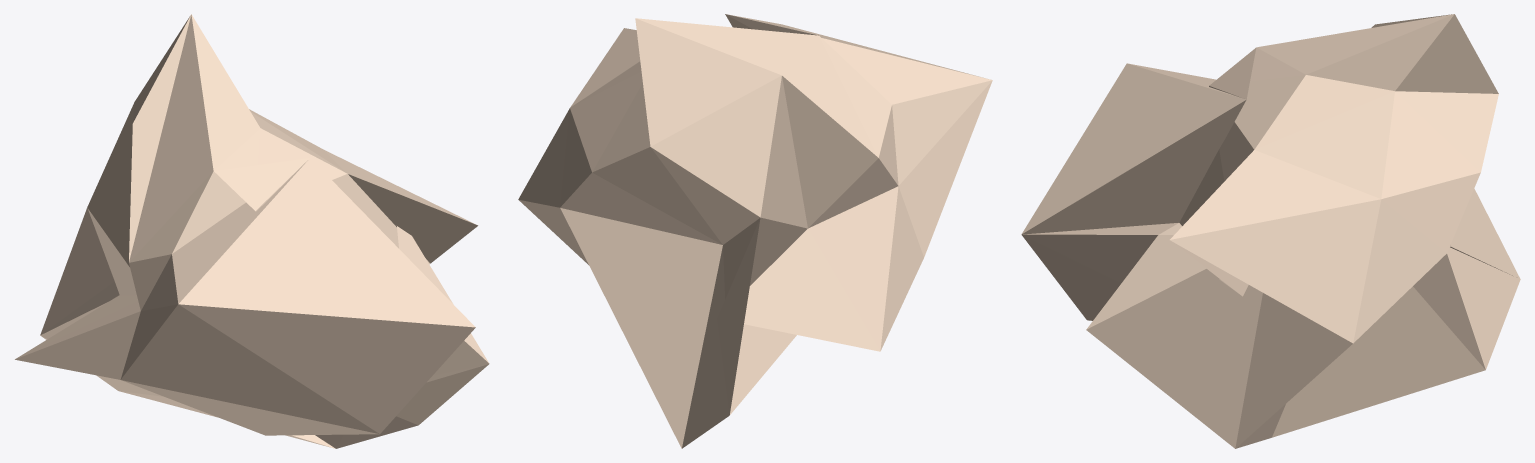
Rendered from PaperClump_01.glb.
3 views of the same model, side by side, from view 1: azimuth 30°, elevation 25°; view 2: azimuth 150°, elevation 25°; view 3: azimuth 270°, elevation 25° (orthographic). The views are drawn at different scales.
Visible parts, largest first — view 1: PaperClump; view 2: PaperClump; view 3: PaperClump.
Boxes of the visible parts, bbox=[...] form: PaperClump: bbox=[15, 14, 489, 448]; PaperClump: bbox=[518, 14, 992, 448]; PaperClump: bbox=[1021, 14, 1520, 448].
Size of the model in its own units: 0.3154 by 0.3214 by 0.3676.
1 material, 1 textured.
